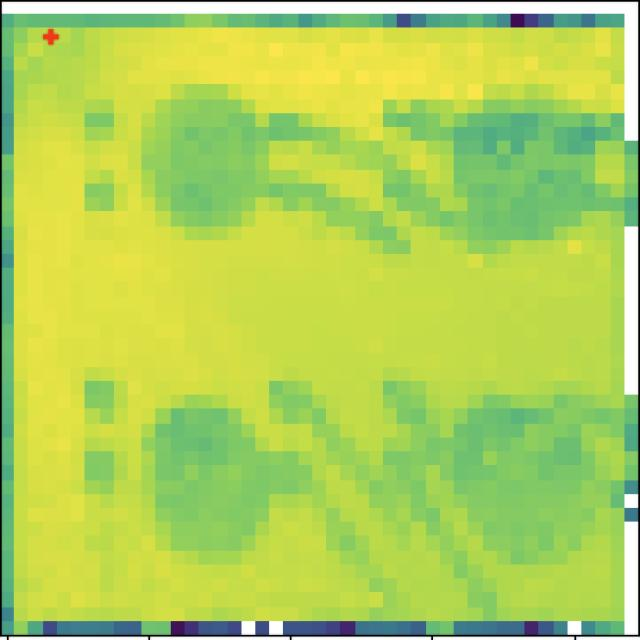Concrete: (148, 392, 272, 564)
Glass: (454, 396, 594, 562)
Metal: (140, 81, 265, 236)
Wood: (441, 99, 593, 240)
